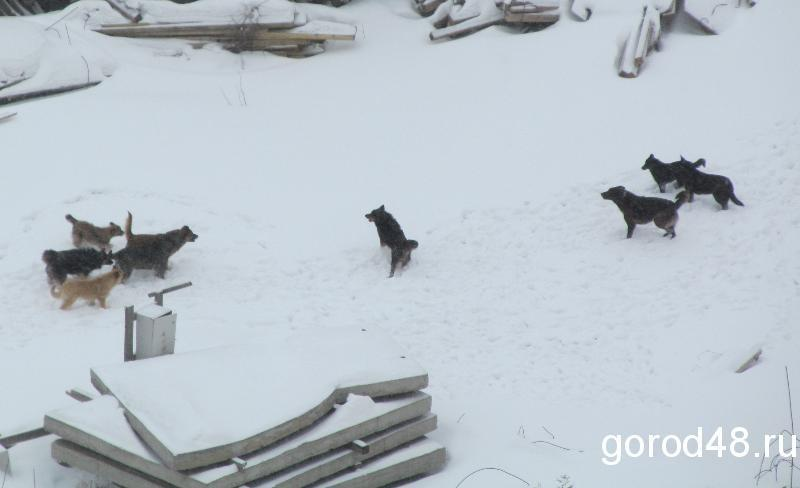dog_aggressive: (600, 185, 693, 246), (122, 209, 201, 269), (364, 203, 419, 281)
normal_dogs: (675, 155, 748, 213), (50, 265, 127, 313), (39, 245, 115, 278), (639, 151, 708, 186), (64, 212, 126, 246)
